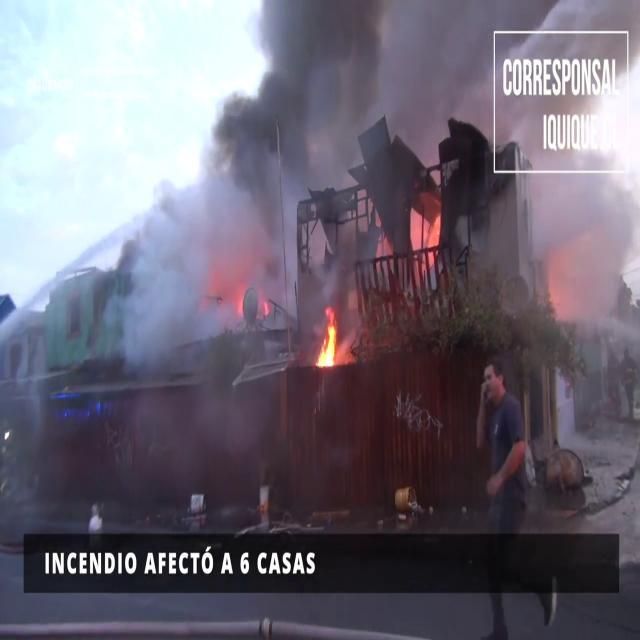Fire: (315, 310, 341, 372)
Smoke: (120, 0, 391, 318), (495, 0, 640, 373)
